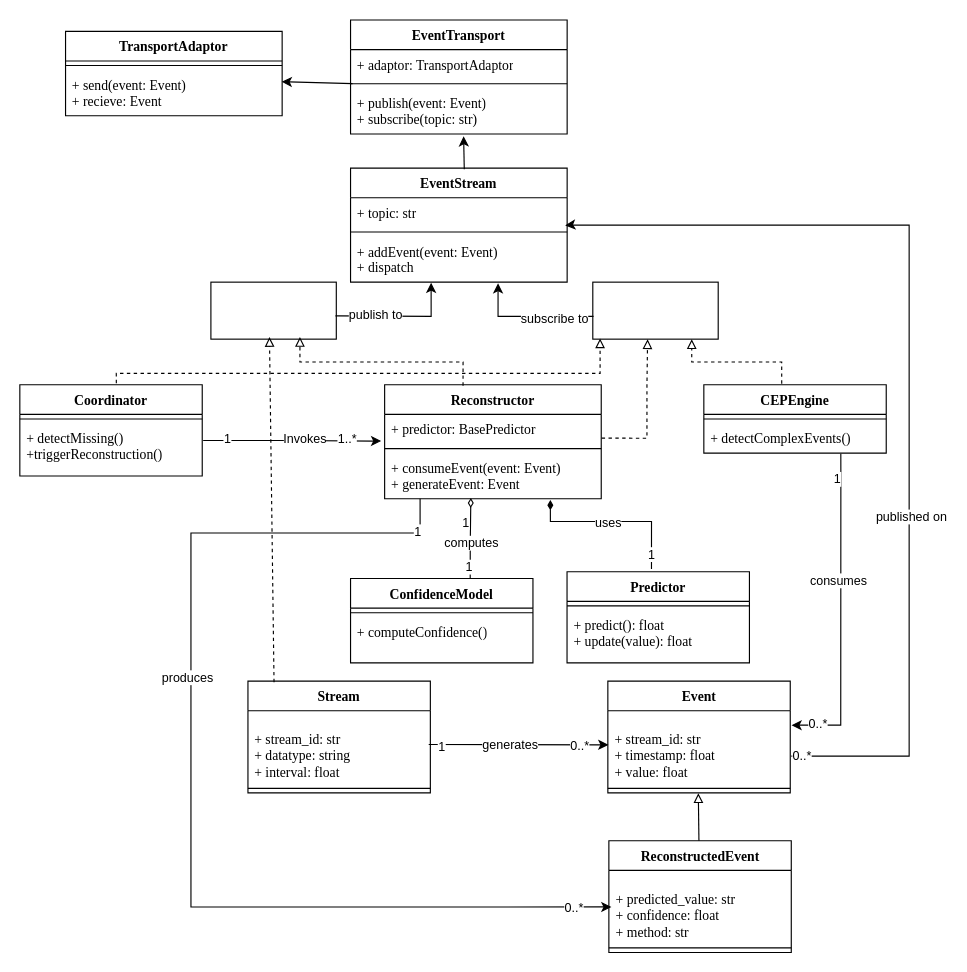
The diagram is 967 pixels wide and 972 high, and some of its shapes have lost their labels. The shapes that lost their labels are listed below. From the top down, each one's centre as x and y in pixels, then its label:
[273,310]: «interface» EventGenerator
[655,310]: «interface» EventConsumer
